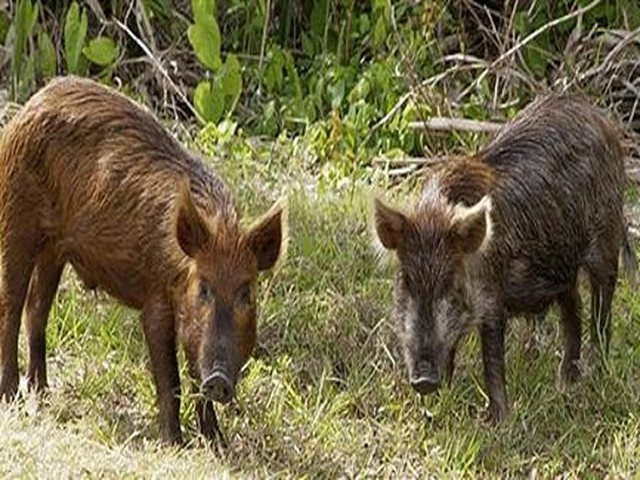Pig: (1, 71, 286, 456), (365, 86, 636, 405)
